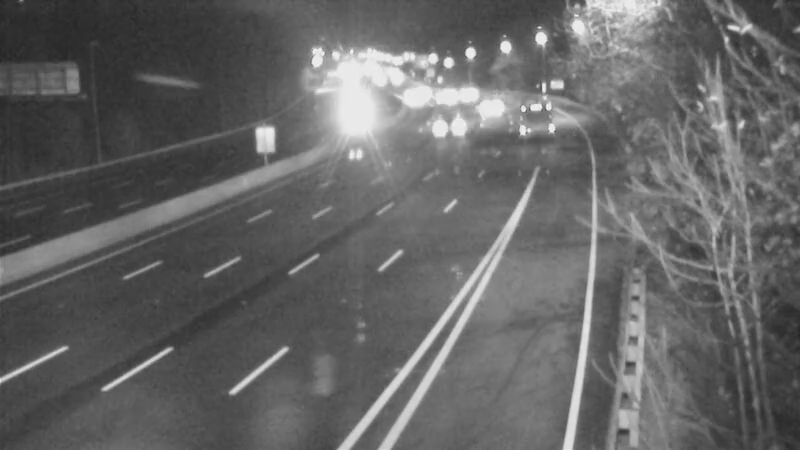vehicle: (385, 71, 435, 121), (466, 84, 516, 134), (509, 86, 559, 136), (416, 99, 466, 149), (327, 89, 377, 139)
